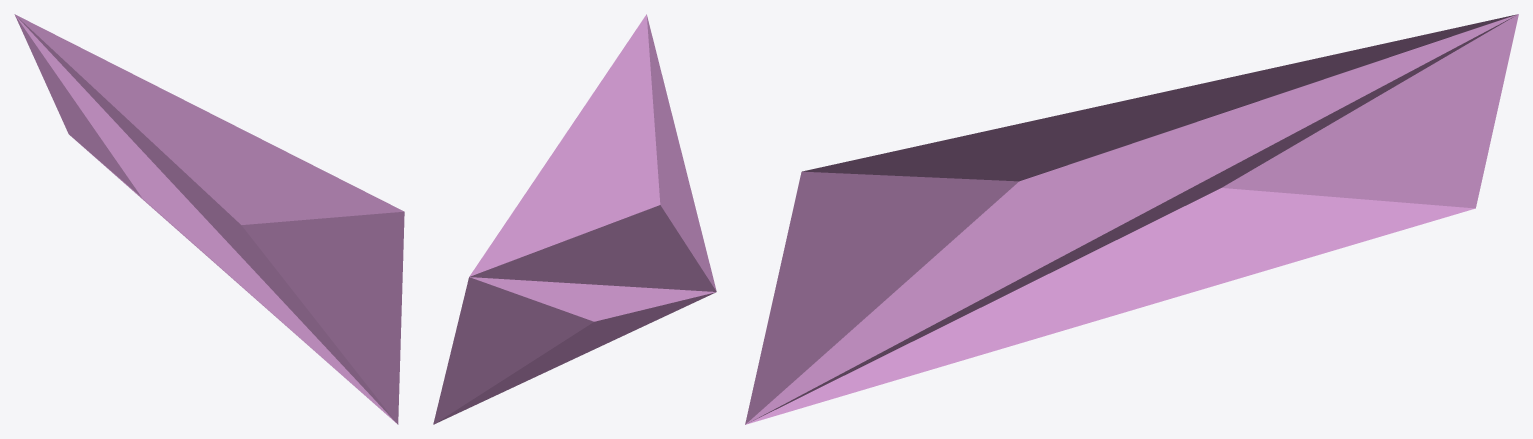
The model's file is TYPE6-1.glb.
The picture shows the model from 3 angles, left to right: view 1: azimuth 30°, elevation 25°; view 2: azimuth 150°, elevation 25°; view 3: azimuth 270°, elevation 25°; orthographic projection. The views are drawn at different scales.
Visible parts, largest first — view 1: TYPE6-1 (×6); view 2: TYPE6-1 (×6); view 3: TYPE6-1 (×6).
Part boxes in pixels (x1=…): TYPE6-1 (×6): x1=15, y1=14, x2=404, y2=424; TYPE6-1 (×6): x1=433, y1=14, x2=716, y2=424; TYPE6-1 (×6): x1=745, y1=14, x2=1518, y2=424.
Size of the model in its own units: 6.5 by 10.81 by 22.62.
